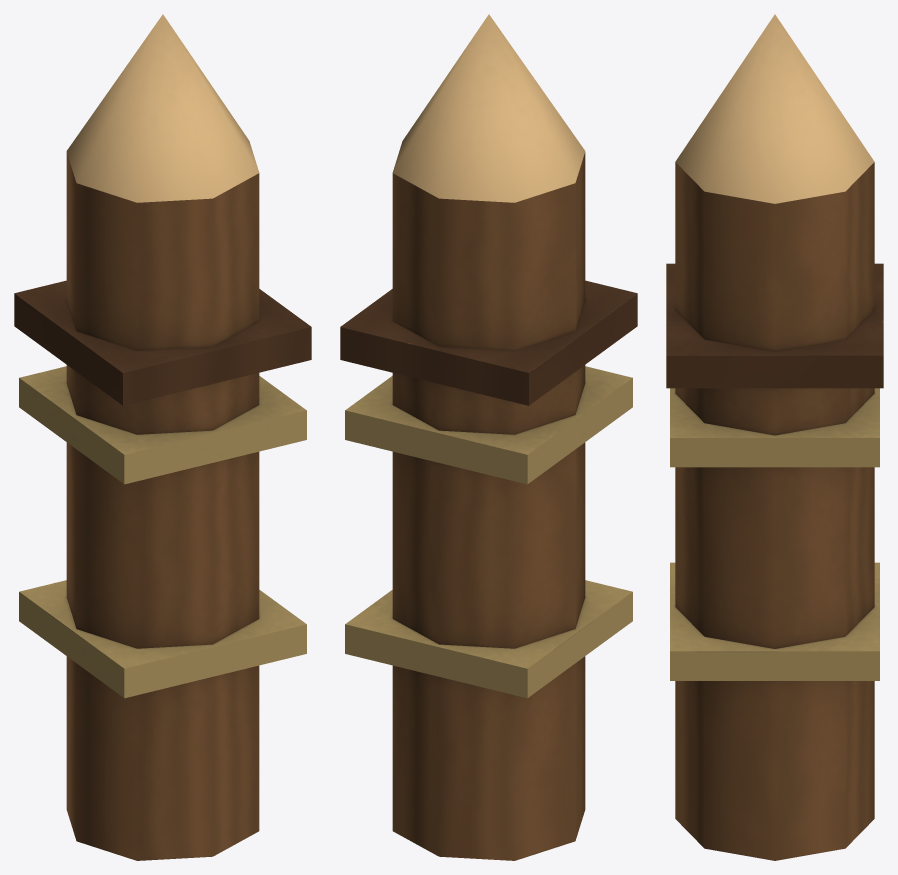
File: fort_l2_post.glb
The picture shows the model from 3 angles, left to right: view 1: azimuth 30°, elevation 25°; view 2: azimuth 150°, elevation 25°; view 3: azimuth 270°, elevation 25°; orthographic projection.
Visible parts, largest first — view 1: fort_l2_post; view 2: fort_l2_post; view 3: fort_l2_post.
Part boxes in pixels (x1,y1,x2,y2): fort_l2_post: [14, 14, 311, 860]; fort_l2_post: [340, 14, 637, 860]; fort_l2_post: [666, 14, 883, 860].
Bounding box in the file's own units: 0.12 × 0.49 × 0.12.
1 material, 1 textured.
